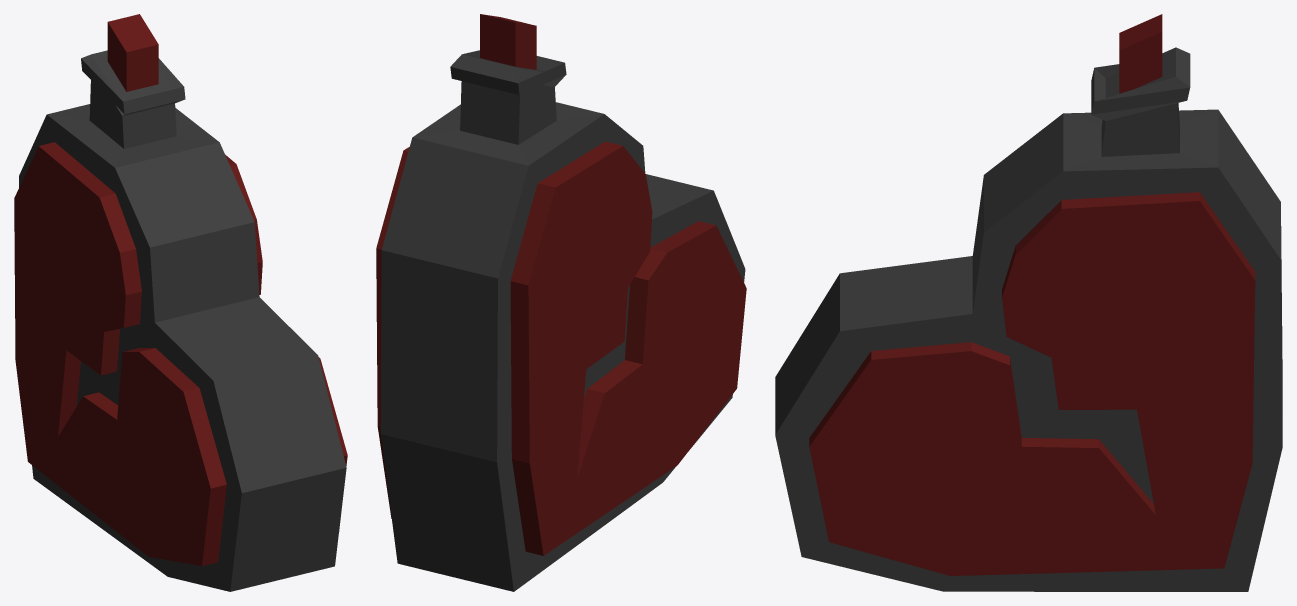
File: HeartbreakPotion.fbx
3 renders of one model, left to right at view 1: azimuth 30°, elevation 25°; view 2: azimuth 150°, elevation 25°; view 3: azimuth 270°, elevation 25°, orthographic. The views are drawn at different scales.
Visible parts, largest first — view 1: heartbreak; view 2: heartbreak; view 3: heartbreak.
Boxes of the visible parts, bbox=[...] form: heartbreak: bbox=[14, 14, 347, 591]; heartbreak: bbox=[376, 14, 746, 591]; heartbreak: bbox=[775, 14, 1282, 591].
Bounding box in the file's own units: 82.23 × 273 × 232.
